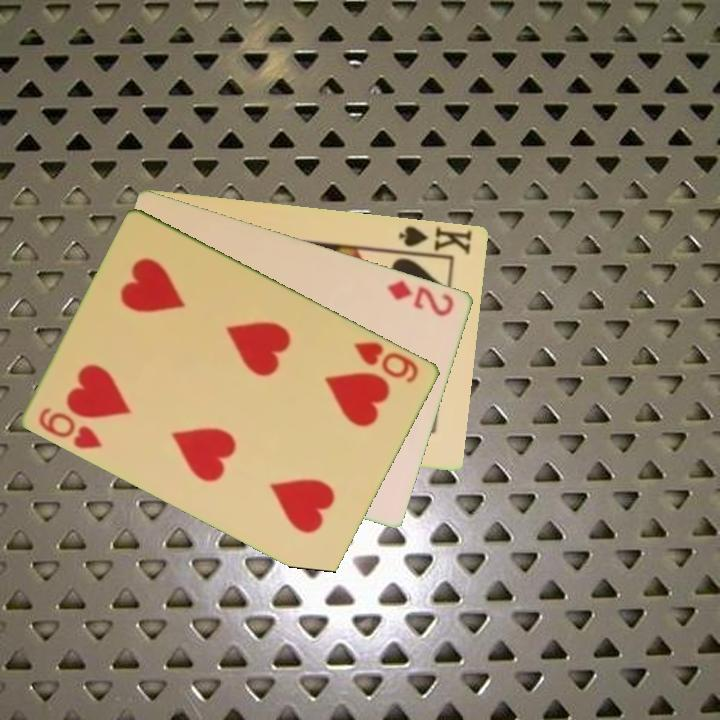2d: (384, 276, 458, 319)
6h: (350, 337, 422, 386), (35, 403, 106, 452)
Ks: (392, 222, 476, 260)
